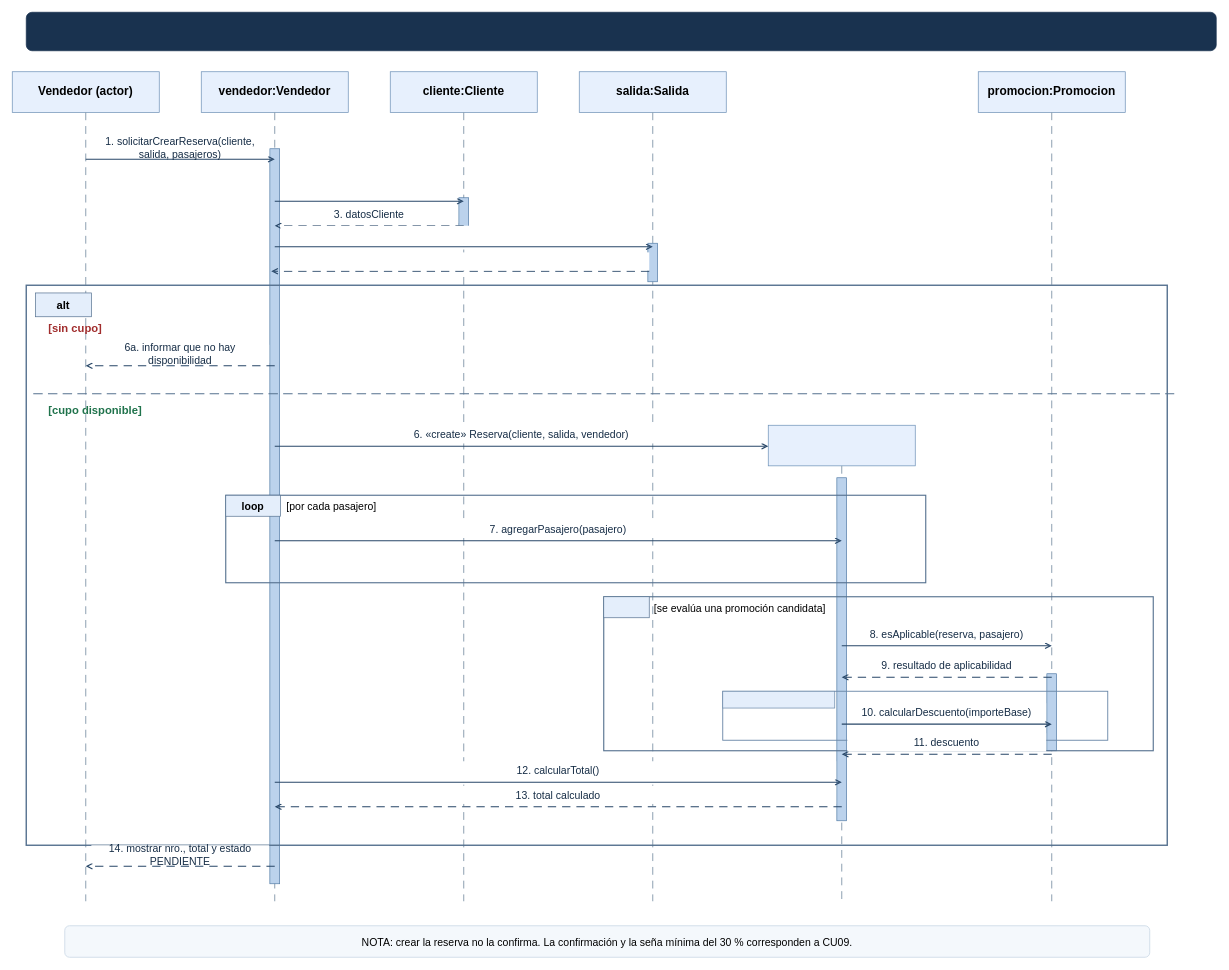
Some shapes in this 1229 by 970 pixel diagram are drawn without their labels. Here are the shapes that lost their labels. From the top down, the centre of each, then its label:
At point 621,31: "DIAGRAMA DE SECUENCIA 1 — CU05 CREAR RESERVA | RUMBO SUR".
At point 369,189: "2. obtenerDatos()".
At point 463,234: "4. verificarCupo(cantidadPasajeros)".
At point 465,261: "5. cupoDisponible: boolean".
At point 841,445: "reserva:Reserva".
At point 626,607: "opt".
At point 778,699: "opt [aplicable]".
